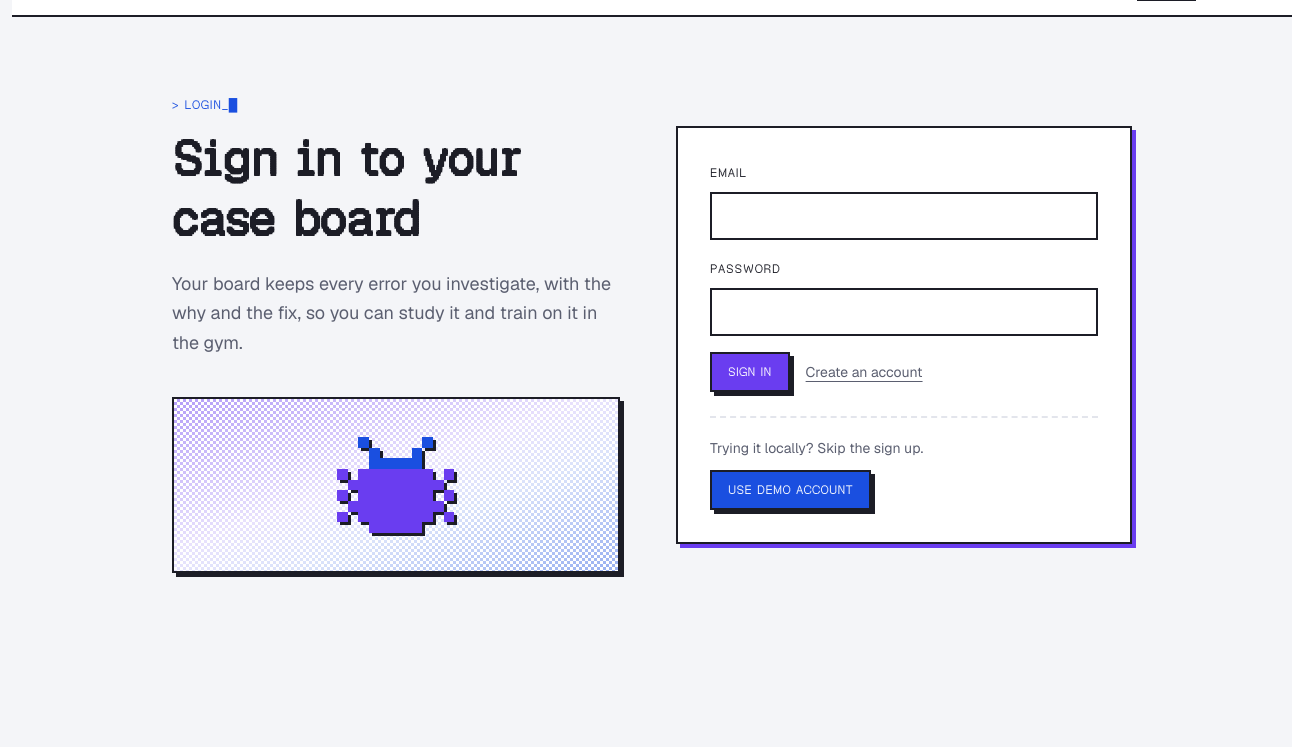
Test: shows the message when the password is wrong
Step 1. Type "ada@example.com" into the field labelled "Email" → (904, 216), box [710, 192, 1098, 240]
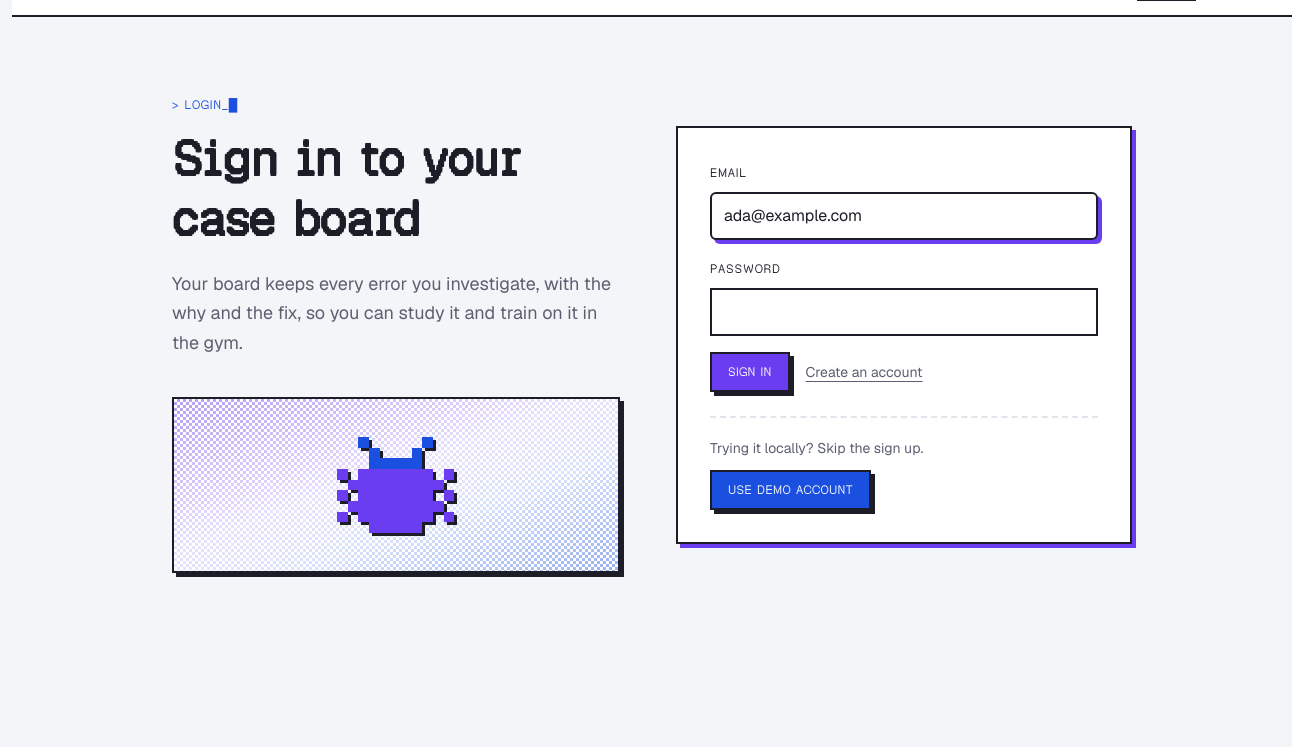
Step 2. Type "wrong horse" into the password field labelled "Password" → (904, 312), box [710, 288, 1098, 336]
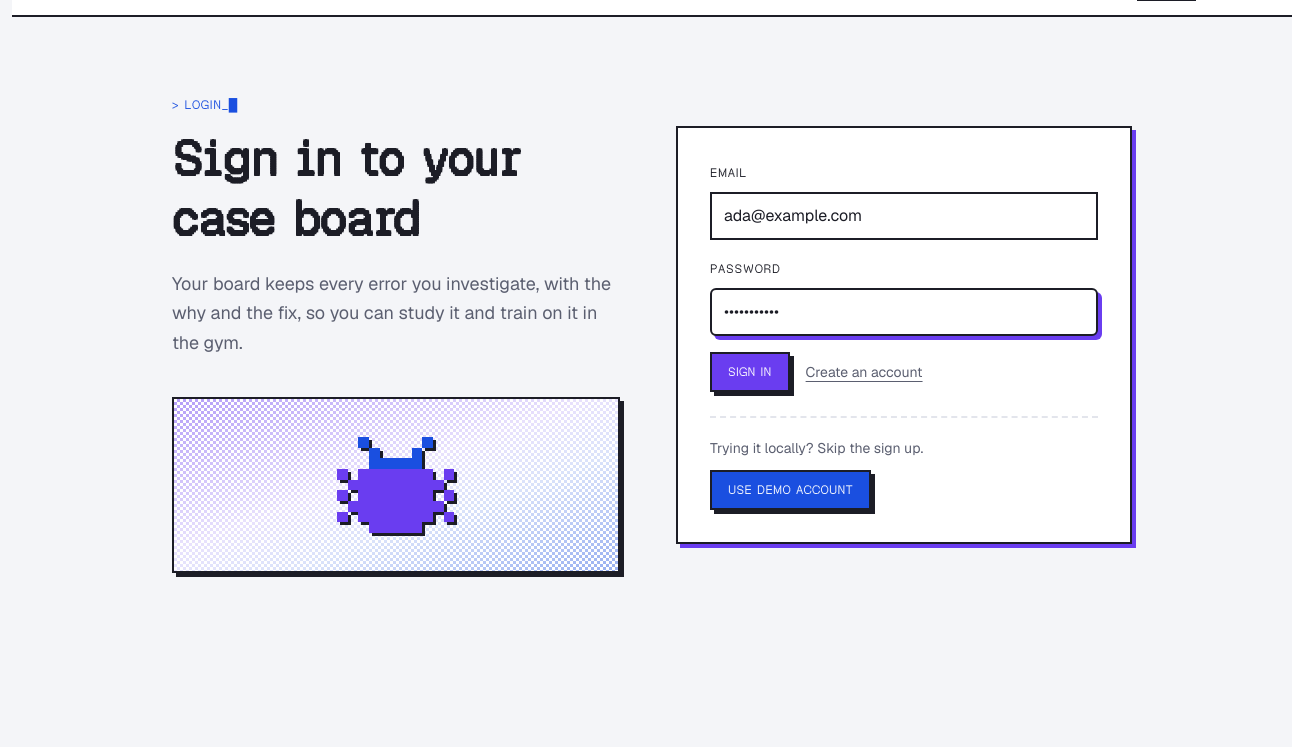
Step 3. Click the button "Sign in" → (750, 372), box [710, 352, 790, 392]
(page scrolled)
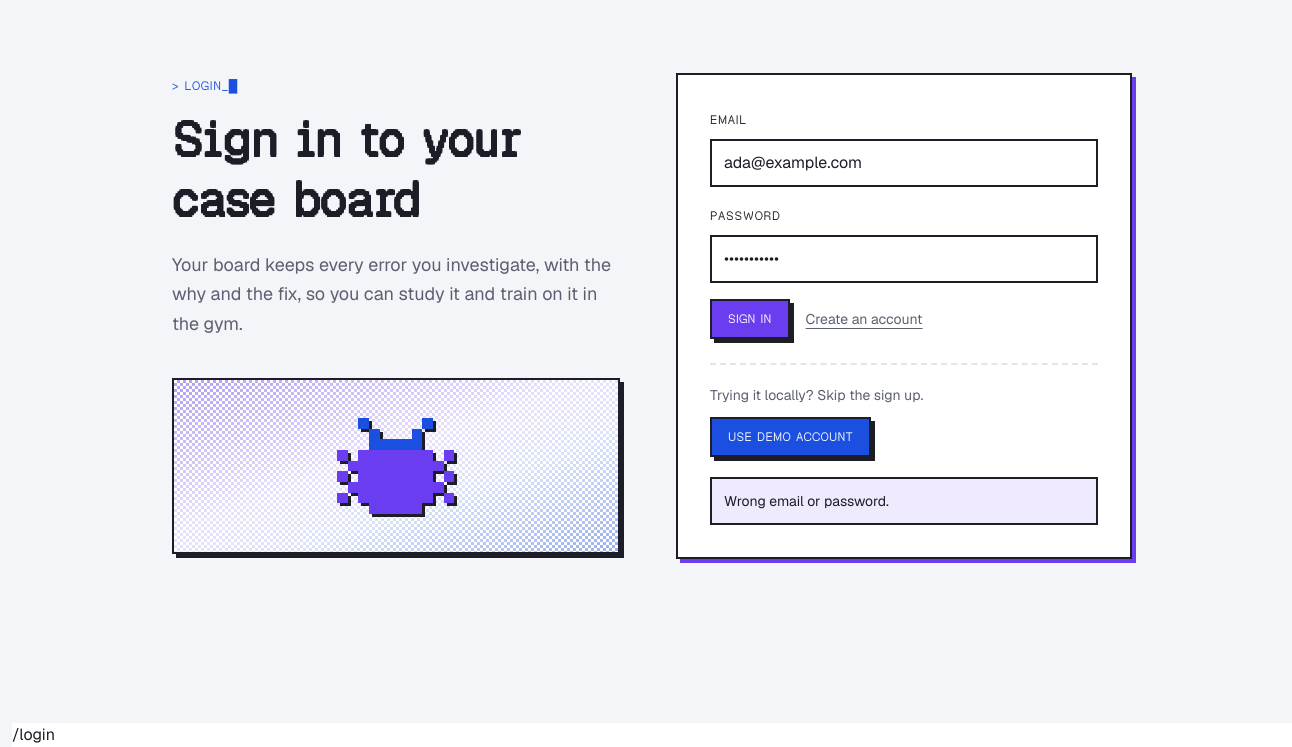
Expected: the text with test id "location" reads "/login", [12, 724, 55, 745]
Result: the message reads "Wrong email or password." at [724, 492, 889, 510]
